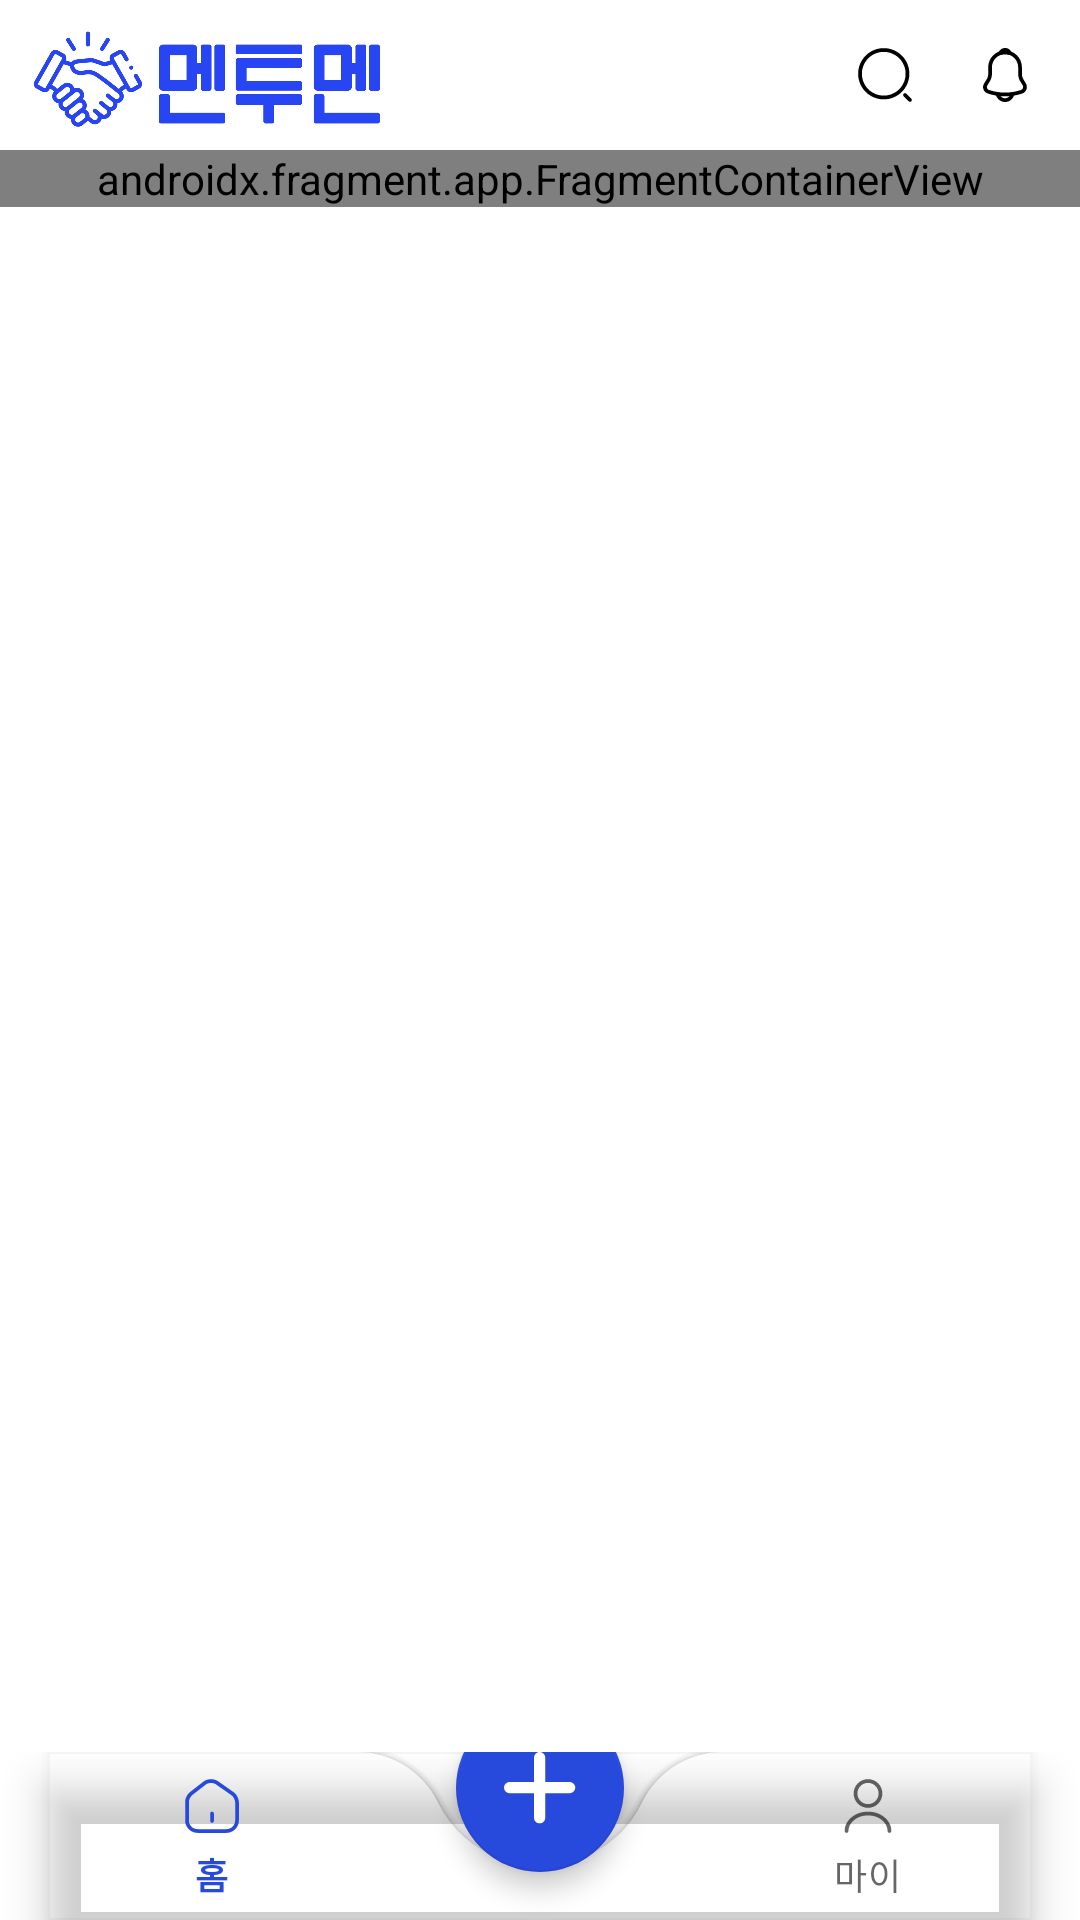

Icons on this 1080x1920 Android screen, each with its box as (x1, y1, x2, y2):
notification: (983, 48, 1027, 102)
search: (858, 48, 912, 102)
